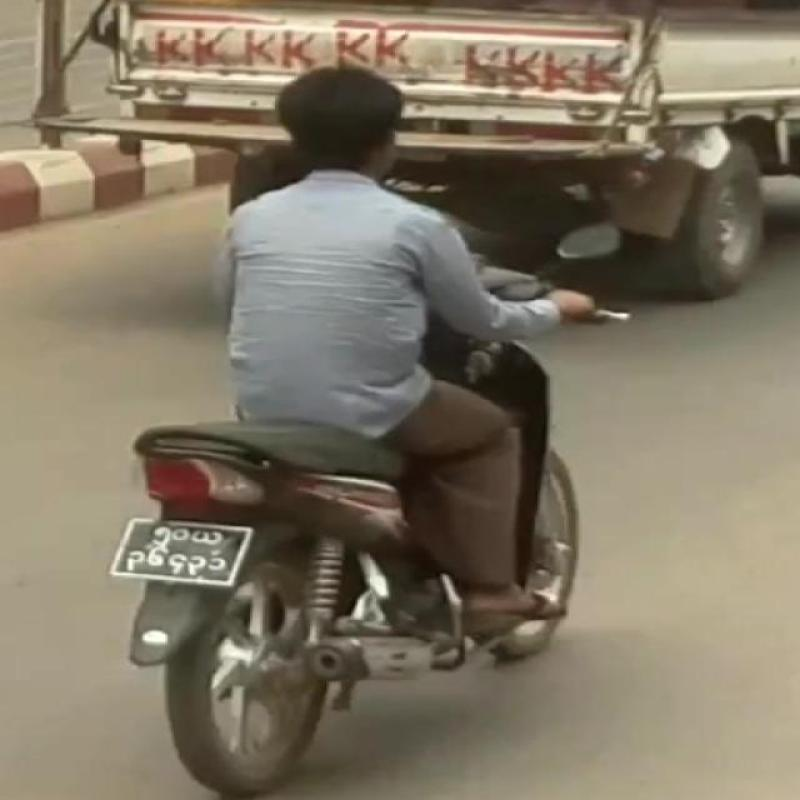nohelmet: (259, 52, 453, 180)
